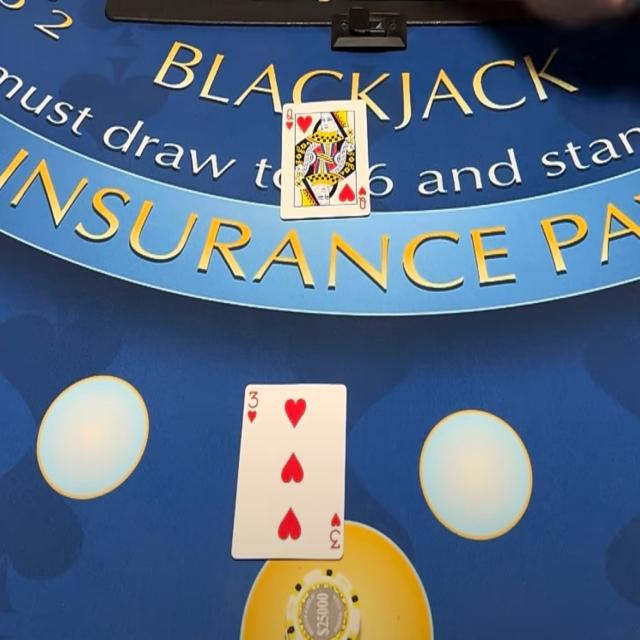3: (247, 389, 260, 410)
Q: (286, 107, 294, 121)
